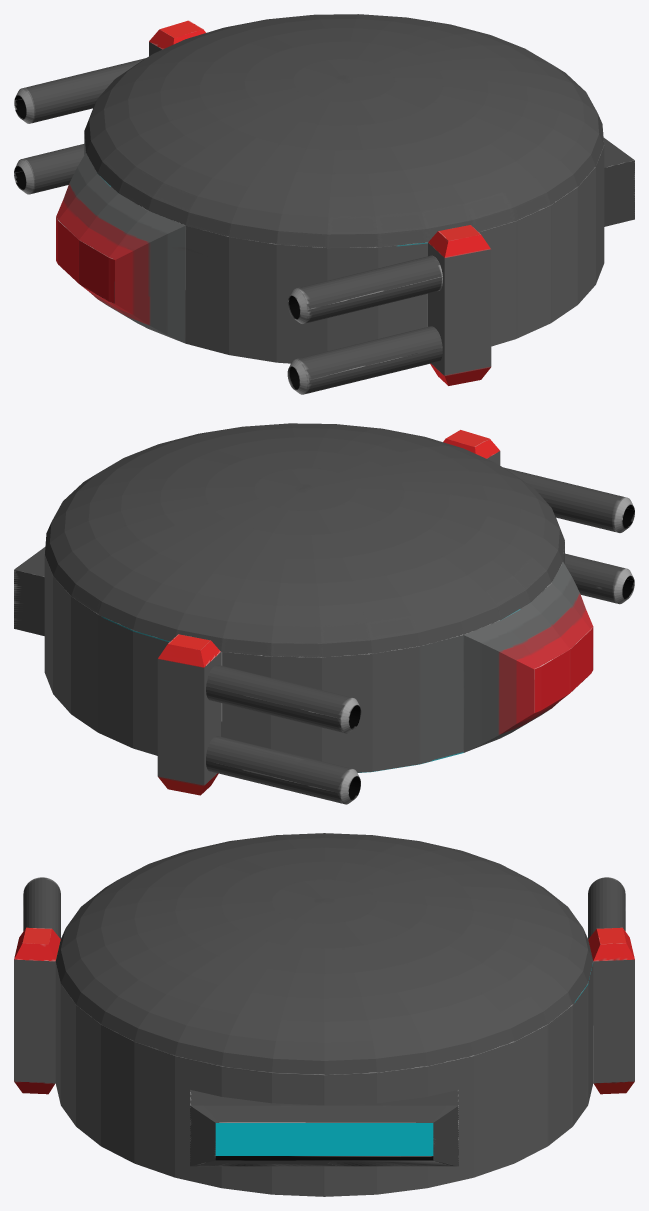
The model's file is enemy.obj.
3 views of the same model, one above another, from view 1: azimuth 30°, elevation 25°; view 2: azimuth 150°, elevation 25°; view 3: azimuth 270°, elevation 25° (orthographic). The views are drawn at different scales.
Visible parts, largest first — view 1: Cylinder.001_Cylinder.002; view 2: Cylinder.001_Cylinder.002; view 3: Cylinder.001_Cylinder.002.
Part boxes in pixels (box(x1,y1,x2,y2)): Cylinder.001_Cylinder.002: box(14, 14, 634, 394); Cylinder.001_Cylinder.002: box(14, 423, 634, 804); Cylinder.001_Cylinder.002: box(14, 833, 634, 1196).
Bounding box in the file's own units: 2.23 × 0.8429 × 2.31.
